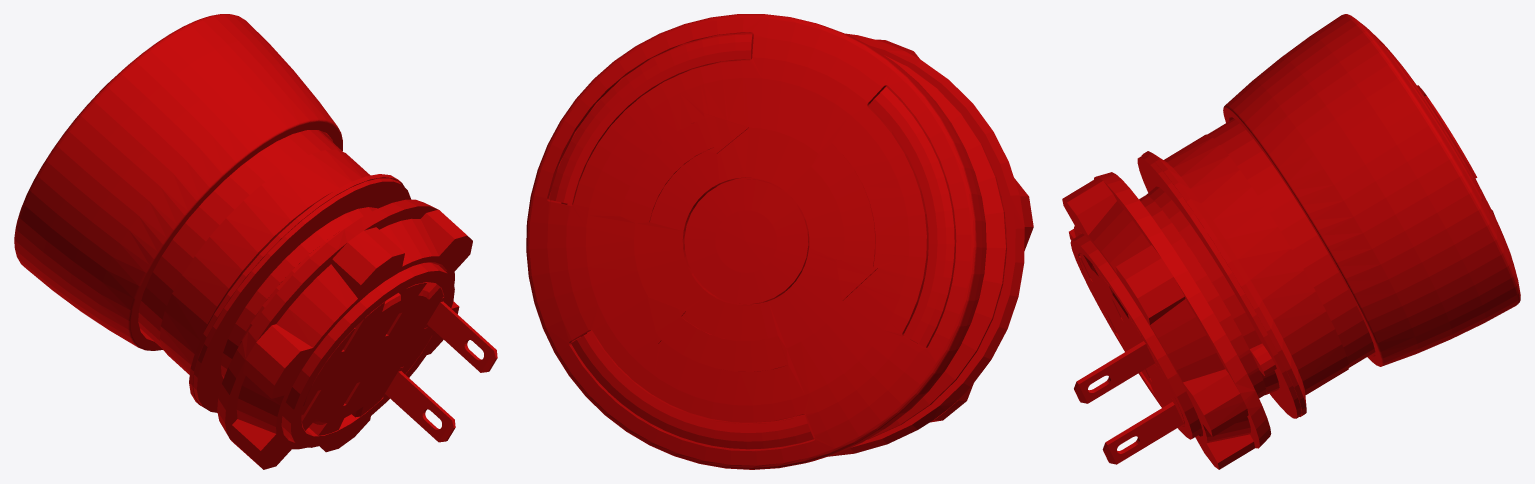
Rendered from estop_link.obj.
The picture shows the model from 3 angles, left to right: view 1: azimuth 30°, elevation 25°; view 2: azimuth 150°, elevation 25°; view 3: azimuth 270°, elevation 25°; orthographic projection. The views are drawn at different scales.
Visible parts, largest first — view 1: obj1; view 2: obj1; view 3: obj1.
Part boxes in pixels (x1,y1,x2,y2): obj1: [14, 14, 497, 469]; obj1: [526, 14, 1033, 469]; obj1: [1062, 14, 1520, 469].
Size of the model in its own units: 0.0387 by 0.0413 by 0.0433.
